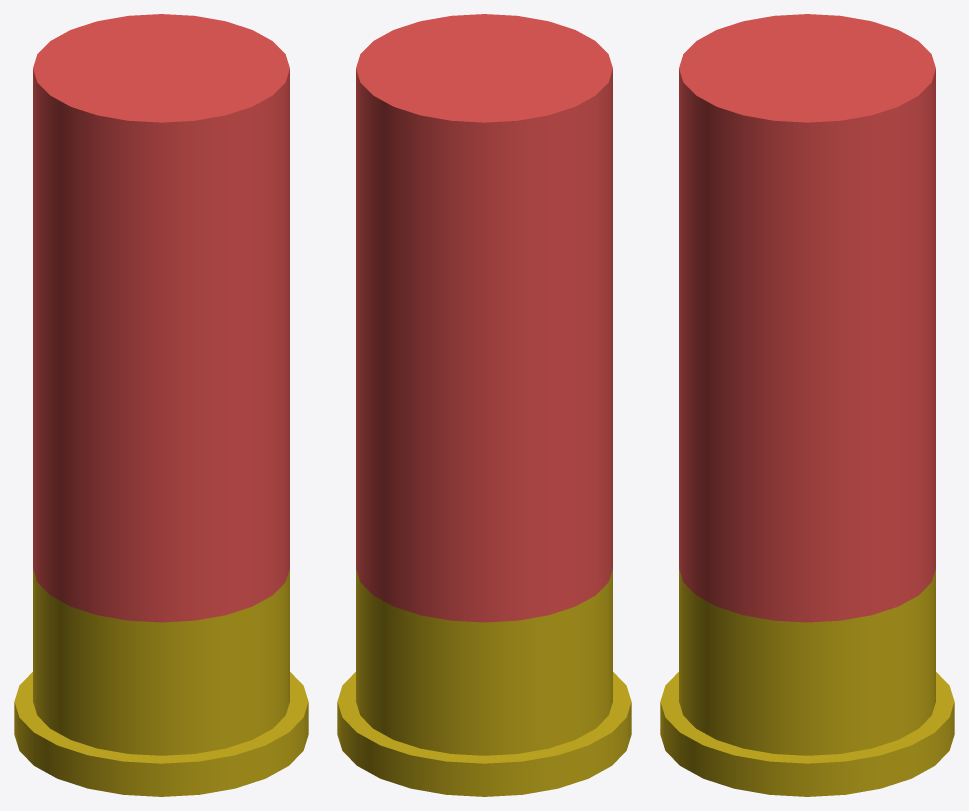
Rendered from ammo_shotgun.fbx.
The picture shows the model from 3 angles, left to right: view 1: azimuth 30°, elevation 25°; view 2: azimuth 150°, elevation 25°; view 3: azimuth 270°, elevation 25°; orthographic projection.
Parts seen in each view (by area): view 1: Mesh1_Group1 Model; view 2: Mesh1_Group1 Model; view 3: Mesh1_Group1 Model.
Boxes of the visible parts, left/top/right/bottom form: Mesh1_Group1 Model: left=14, top=14, right=308, bottom=796; Mesh1_Group1 Model: left=337, top=14, right=631, bottom=796; Mesh1_Group1 Model: left=660, top=14, right=954, bottom=796.
Size of the model in its own units: 0.0048 by 0.012 by 0.0048.
